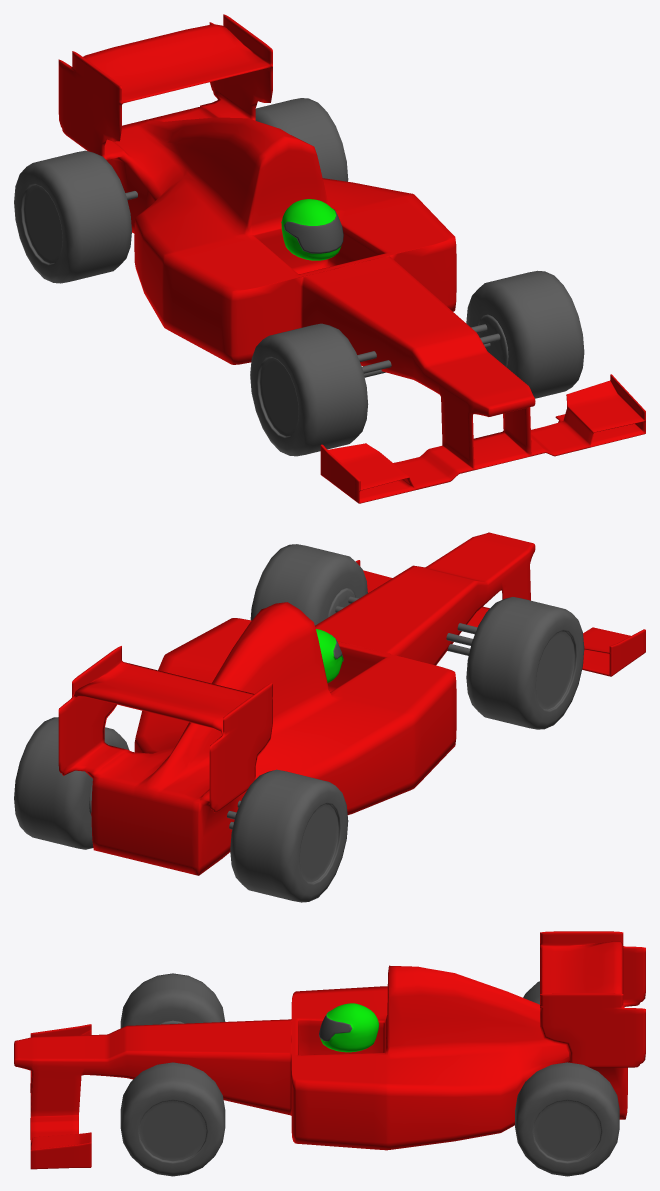
Rendered from ferrari.fbx.
3 views of the same model, one above another, from view 1: azimuth 30°, elevation 25°; view 2: azimuth 150°, elevation 25°; view 3: azimuth 270°, elevation 25° (orthographic). The views are drawn at different scales.
Parts seen in each view (by area): view 1: Carro02; view 2: Carro02; view 3: Carro02.
Boxes of the visible parts, bbox=[...] form: Carro02: bbox=[14, 14, 645, 503]; Carro02: bbox=[14, 532, 645, 902]; Carro02: bbox=[14, 931, 645, 1176].
Bounding box in the file's own units: 4.19 × 2.63 × 9.42.
